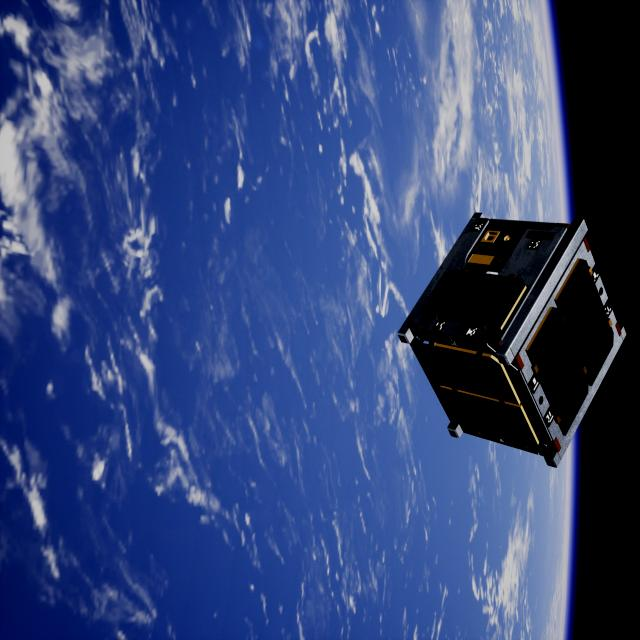medium_debris: (390, 211, 630, 469)
